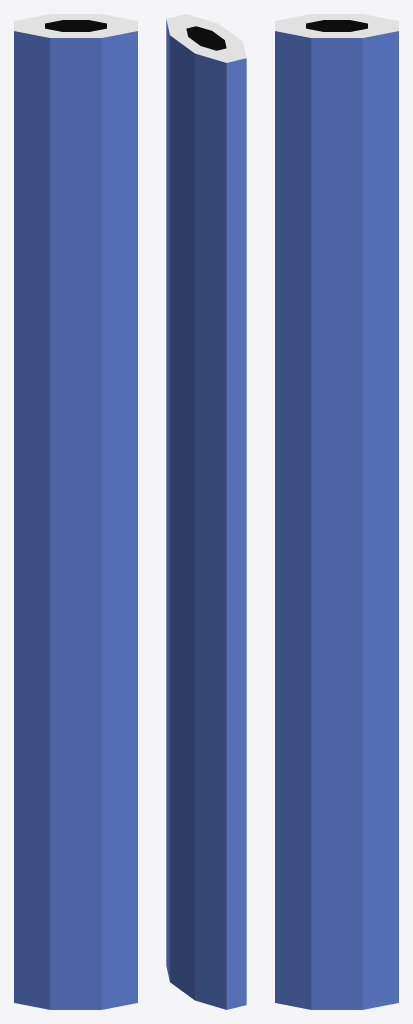
Rendered from pencil03.obj.
3 renders of one model, left to right at view 1: azimuth 90°, elevation 25°; view 2: azimuth 210°, elevation 25°; view 3: azimuth 270°, elevation 25°, orthographic. The views are drawn at different scales.
Parts seen in each view (by area): view 1: Cylinder_Cylinder.003; view 2: Cylinder_Cylinder.003; view 3: Cylinder_Cylinder.003.
Boxes of the visible parts, x1,y1,x2,y2 form: Cylinder_Cylinder.003: (14, 14, 137, 1009); Cylinder_Cylinder.003: (166, 14, 246, 1009); Cylinder_Cylinder.003: (275, 14, 398, 1009).
Bounding box in the file's own units: 0.00656 × 0.1233 × 0.0142.
1 material, 1 textured.
